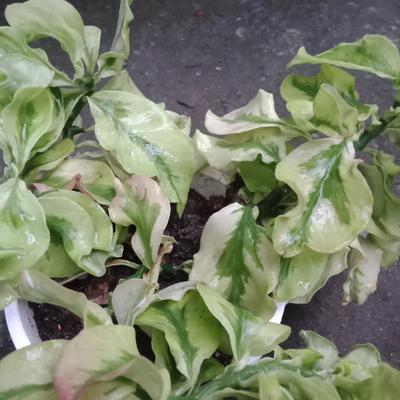Pothos plant: (6, 59, 338, 366)
